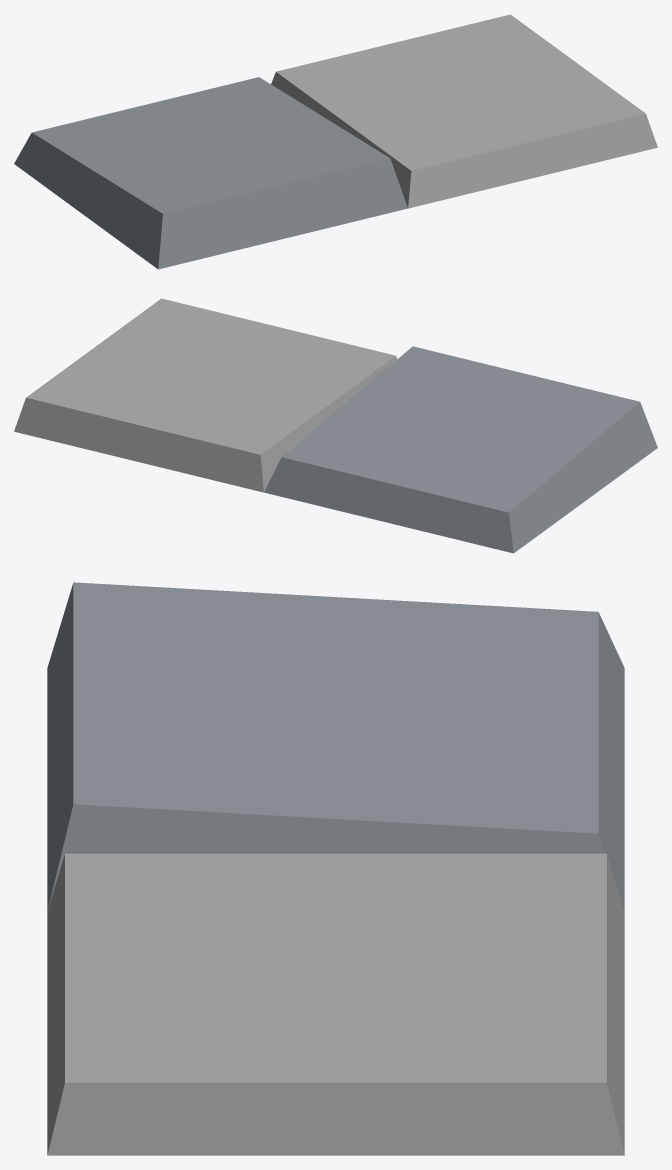
Rendered from Rock_Tiles_m_07.fbx.
3 views of the same model, one above another, from view 1: azimuth 30°, elevation 25°; view 2: azimuth 150°, elevation 25°; view 3: azimuth 270°, elevation 25° (orthographic). The views are drawn at different scales.
Parts seen in each view (by area): view 1: Rock_Tiles_m_07; view 2: Rock_Tiles_m_07; view 3: Rock_Tiles_m_07.
Boxes of the visible parts, x1,y1,x2,y2 form: Rock_Tiles_m_07: (14,14,657,269); Rock_Tiles_m_07: (14,298,657,553); Rock_Tiles_m_07: (47,582,624,1155).
Size of the model in its own units: 80 by 7.38 by 40.
